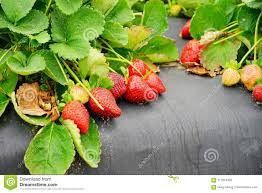ripe: (125, 56, 168, 94), (87, 86, 123, 121), (121, 75, 157, 106), (59, 101, 90, 135), (177, 36, 209, 66), (101, 69, 128, 100), (179, 14, 199, 38), (253, 81, 260, 104)
unripe: (237, 61, 260, 89), (66, 85, 90, 107), (218, 66, 240, 89)
